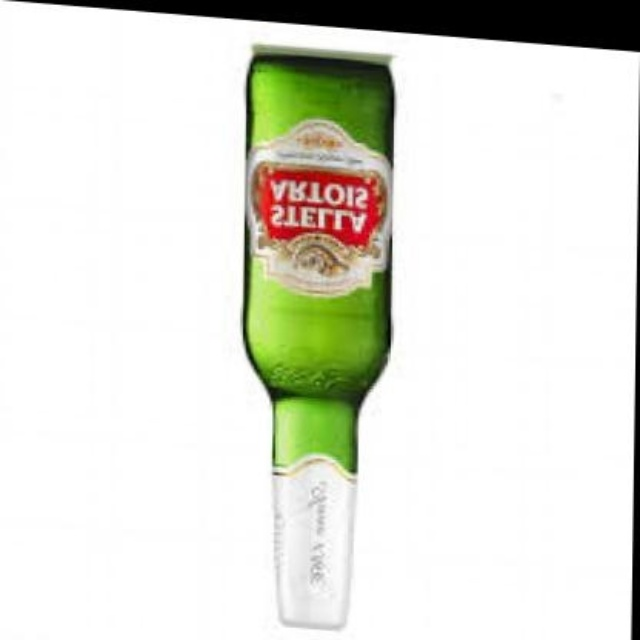trash: (245, 55, 391, 628)
